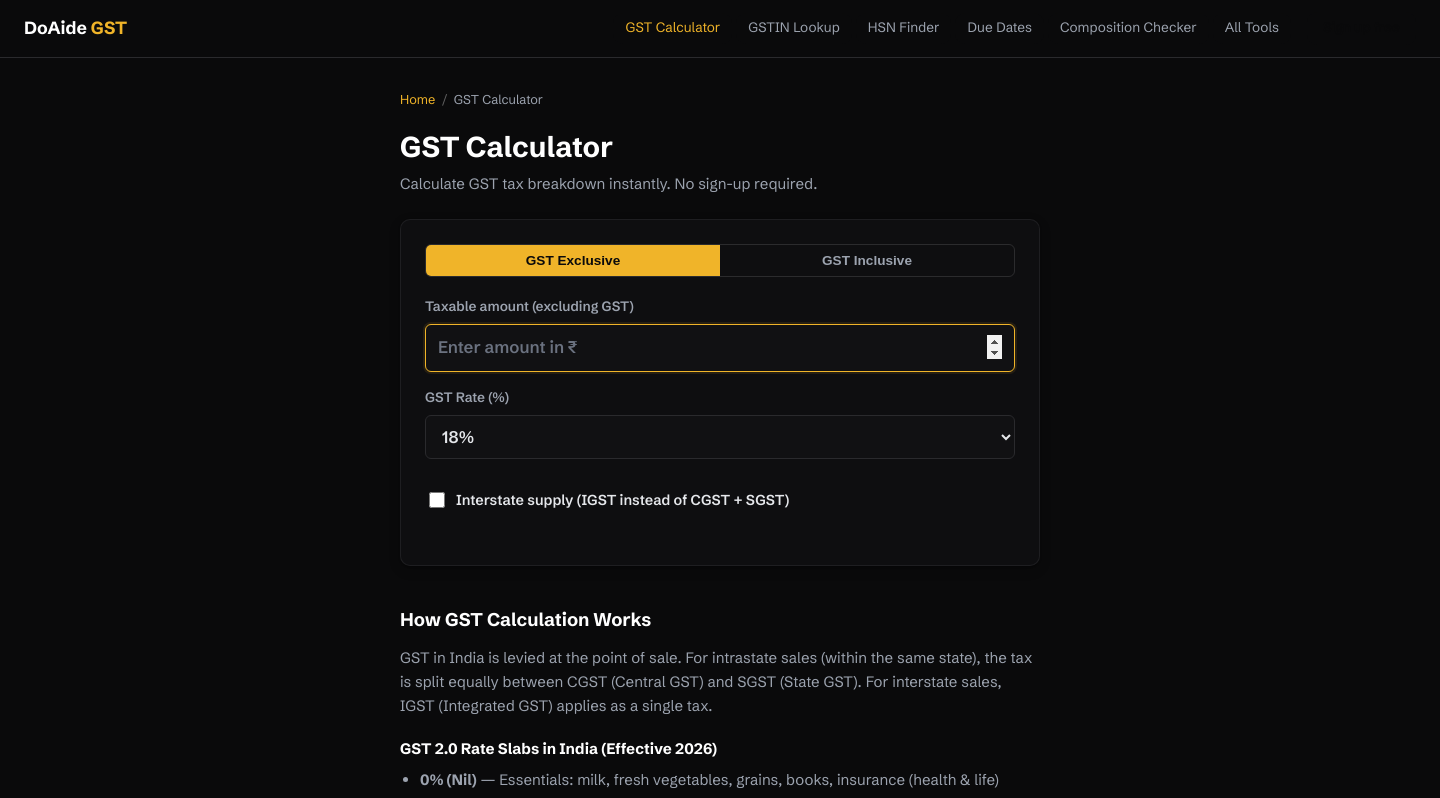
Test case: CalculatorPage › uses inclusive mode when toggled
What coordinates should you click on to do the following:
click the button "GST Inclusive"
I would click on:
 (867, 260)
Its box is [720, 245, 1014, 276].
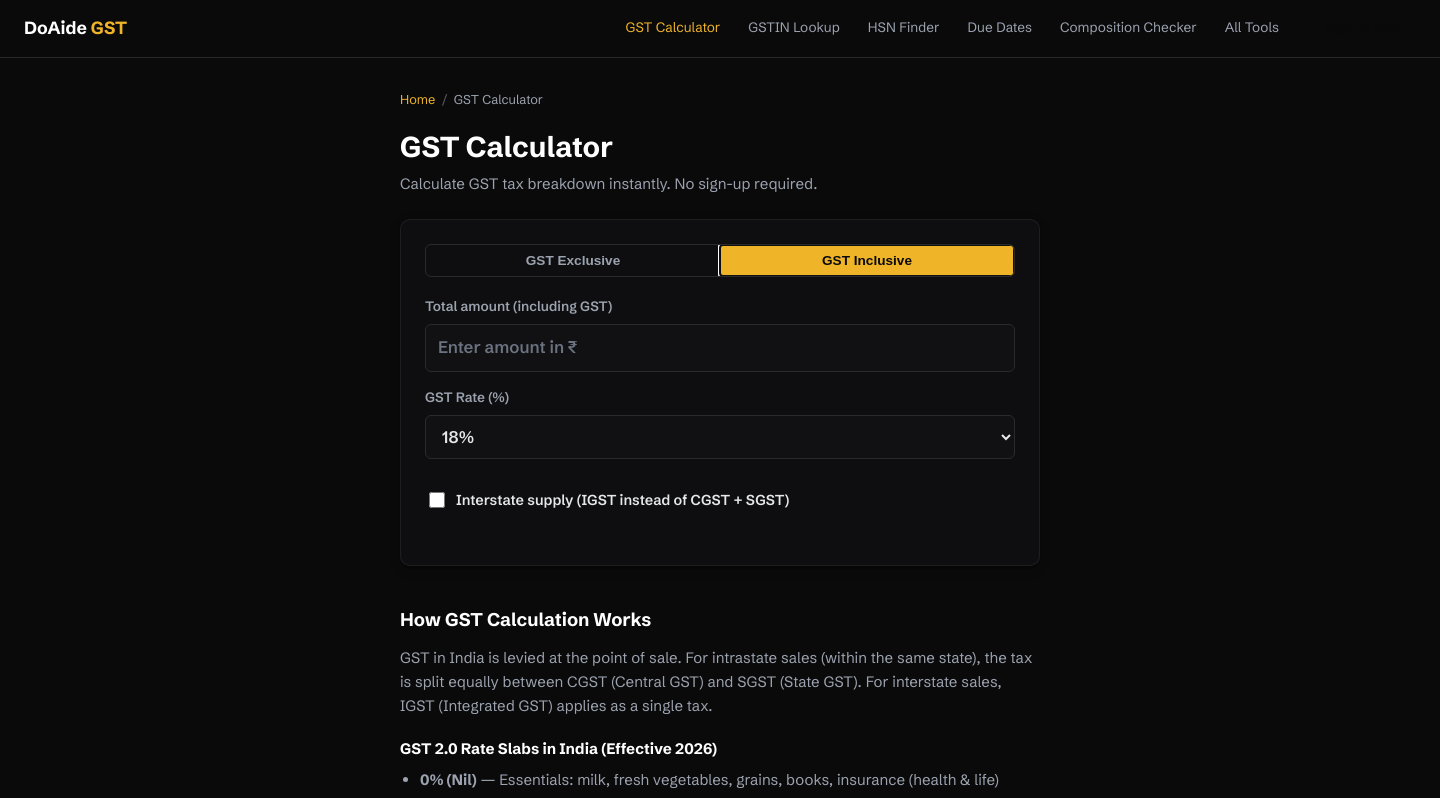
Check: the text "Total amount (including GST)" is shown, box [425, 297, 1015, 372]
